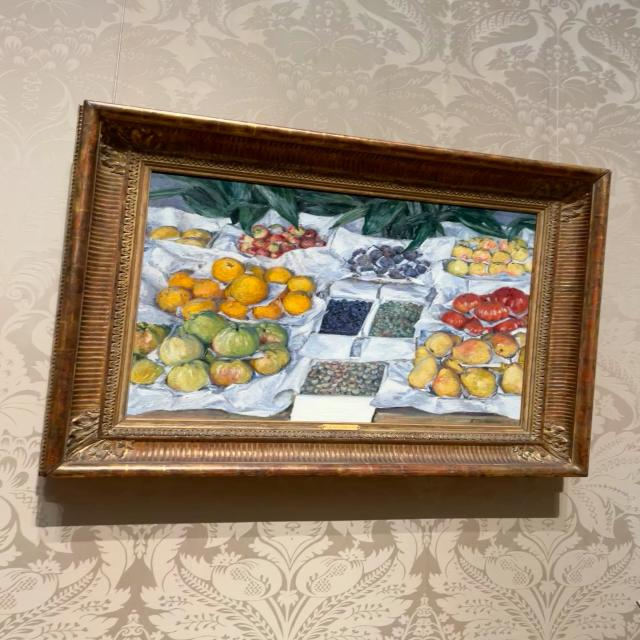fruits: (129, 178, 531, 422)
